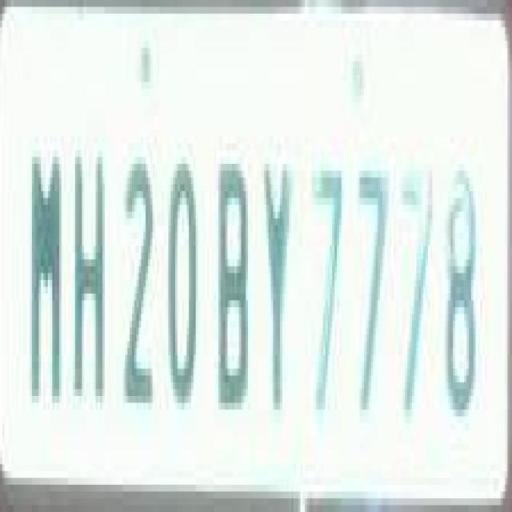number plate: (11, 6, 512, 512)
